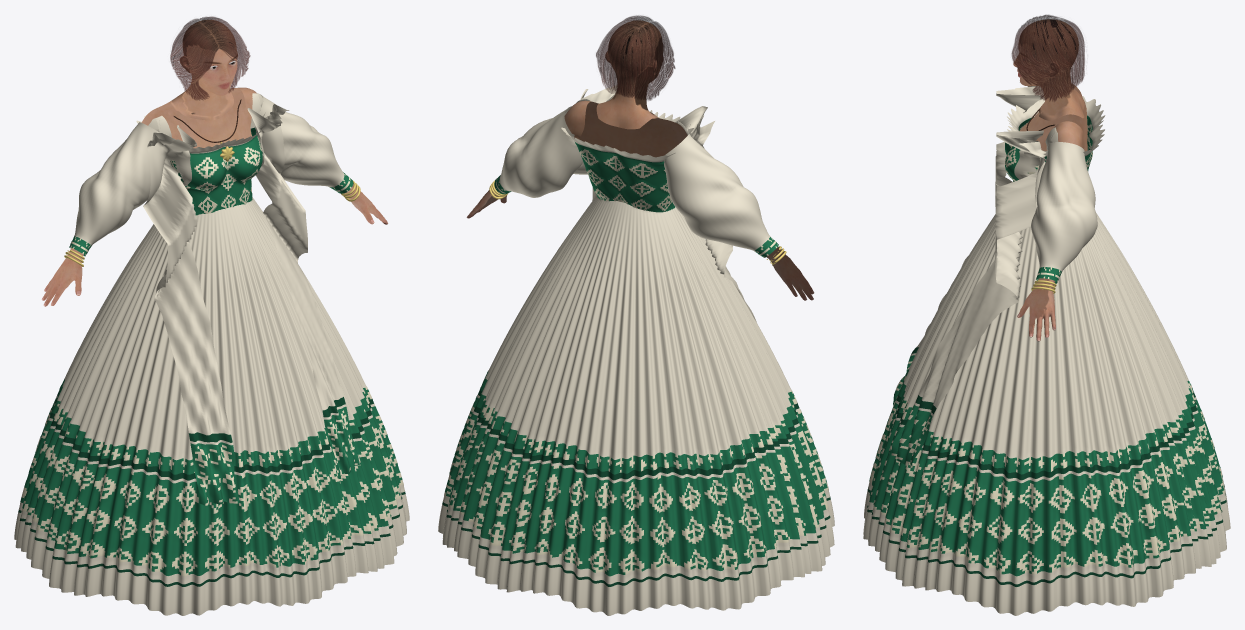
Rendered from female-green-dress.glb.
3 views of the same model, side by side, from view 1: azimuth 30°, elevation 25°; view 2: azimuth 150°, elevation 25°; view 3: azimuth 270°, elevation 25° (orthographic).
Visible parts, largest first — view 1: Gown_Skirt, Gown_Shawl, Gown_Sleeves, Full_Body_Mouth Cavity1_0, Gown_Bodice, Hair_hair1_0, Full_Body_Body1_0, Full_Body_Arms1_0, Gown_Jewelry; view 2: Gown_Skirt, Gown_Sleeves, Hair_hair1_0, Full_Body_Mouth Cavity1_0, Gown_Bodice, Full_Body_Arms1_0, Full_Body_Body1_0, Gown_Shawl; view 3: Gown_Skirt, Gown_Shawl, Gown_Sleeves, Hair_hair1_0, Full_Body_Mouth Cavity1_0, Full_Body_Arms1_0, Gown_Bodice, Full_Body_Body1_0.
Boxes of the visible parts, x1,y1,x2,y2 form: Gown_Skirt: (14, 197, 409, 615); Gown_Shawl: (143, 104, 359, 505); Gown_Sleeves: (69, 94, 353, 256); Full_Body_Mouth Cavity1_0: (171, 19, 237, 120); Gown_Bodice: (136, 112, 268, 215); Hair_hair1_0: (170, 16, 250, 100); Full_Body_Body1_0: (162, 88, 252, 148); Full_Body_Arms1_0: (42, 87, 387, 306); Gown_Jewelry: (64, 99, 360, 266); Gown_Skirt: (438, 195, 834, 615); Gown_Sleeves: (494, 106, 778, 257); Hair_hair1_0: (596, 15, 675, 100); Full_Body_Mouth Cavity1_0: (596, 20, 663, 129); Gown_Bodice: (561, 110, 694, 212); Full_Body_Arms1_0: (467, 100, 813, 300); Full_Body_Body1_0: (579, 101, 667, 157); Gown_Shawl: (573, 85, 756, 322); Gown_Skirt: (863, 213, 1230, 615); Gown_Shawl: (891, 86, 1046, 467); Gown_Sleeves: (1031, 142, 1097, 283); Hair_hair1_0: (1011, 14, 1084, 101); Full_Body_Mouth Cavity1_0: (1013, 19, 1084, 120); Full_Body_Arms1_0: (1017, 83, 1084, 341); Gown_Bodice: (1005, 96, 1105, 181); Full_Body_Body1_0: (1019, 86, 1087, 151).
Size of the model in its own units: 1.2 by 1.72 by 1.1.
16 materials, 10 textured.
